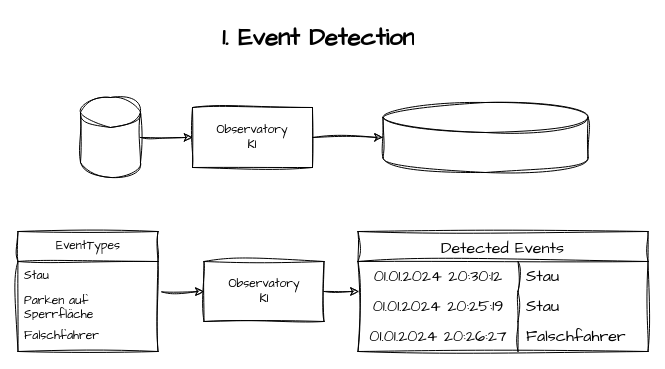
Some shapes in this 665 by 369 pixel diagram are drawn without their labels. The centre of each missing label's shape, as x and y in pixels:
"Event Config" goes at point (110, 137).
"Timeseries Data Event Storage" goes at point (485, 137).
